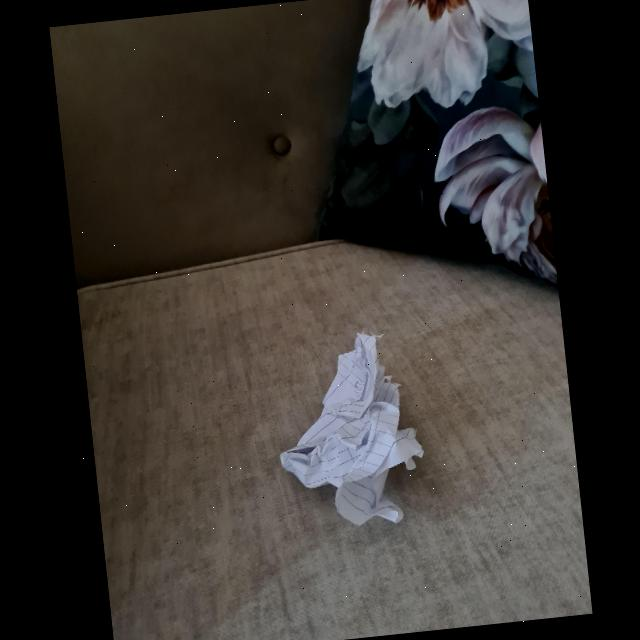trash: (272, 326, 422, 530)
